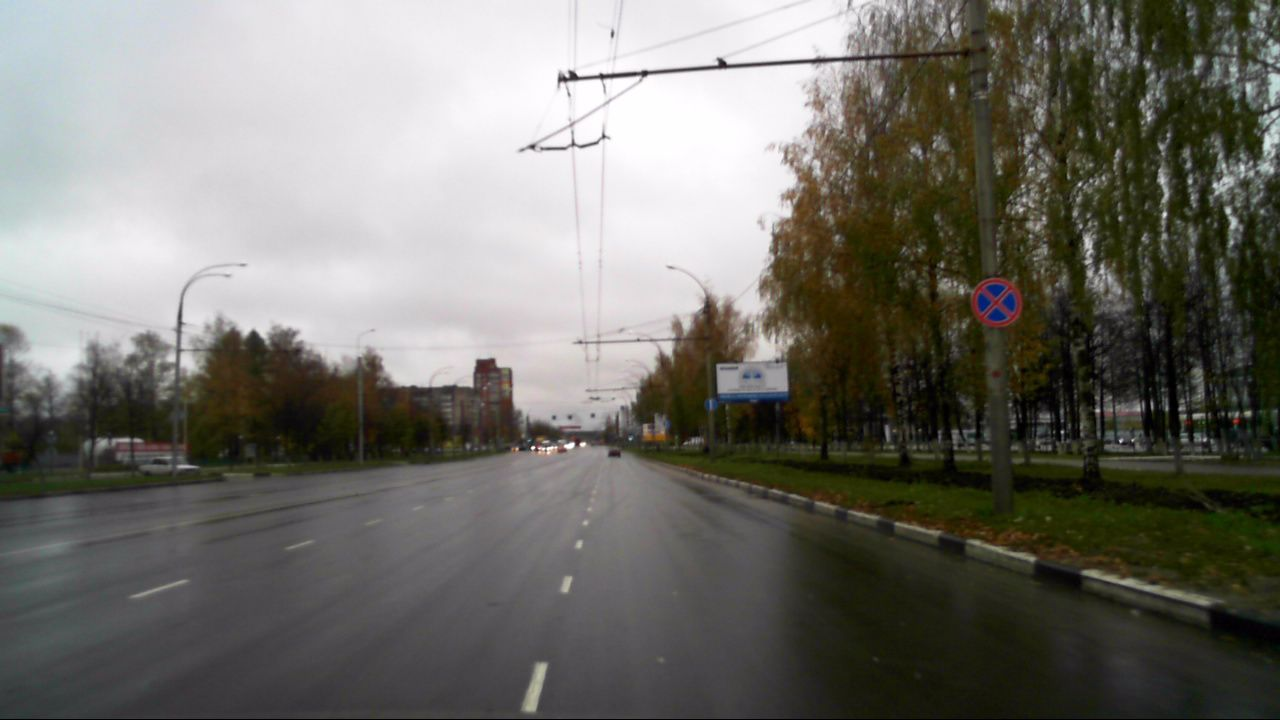No Parking: (968, 279, 1019, 327)
